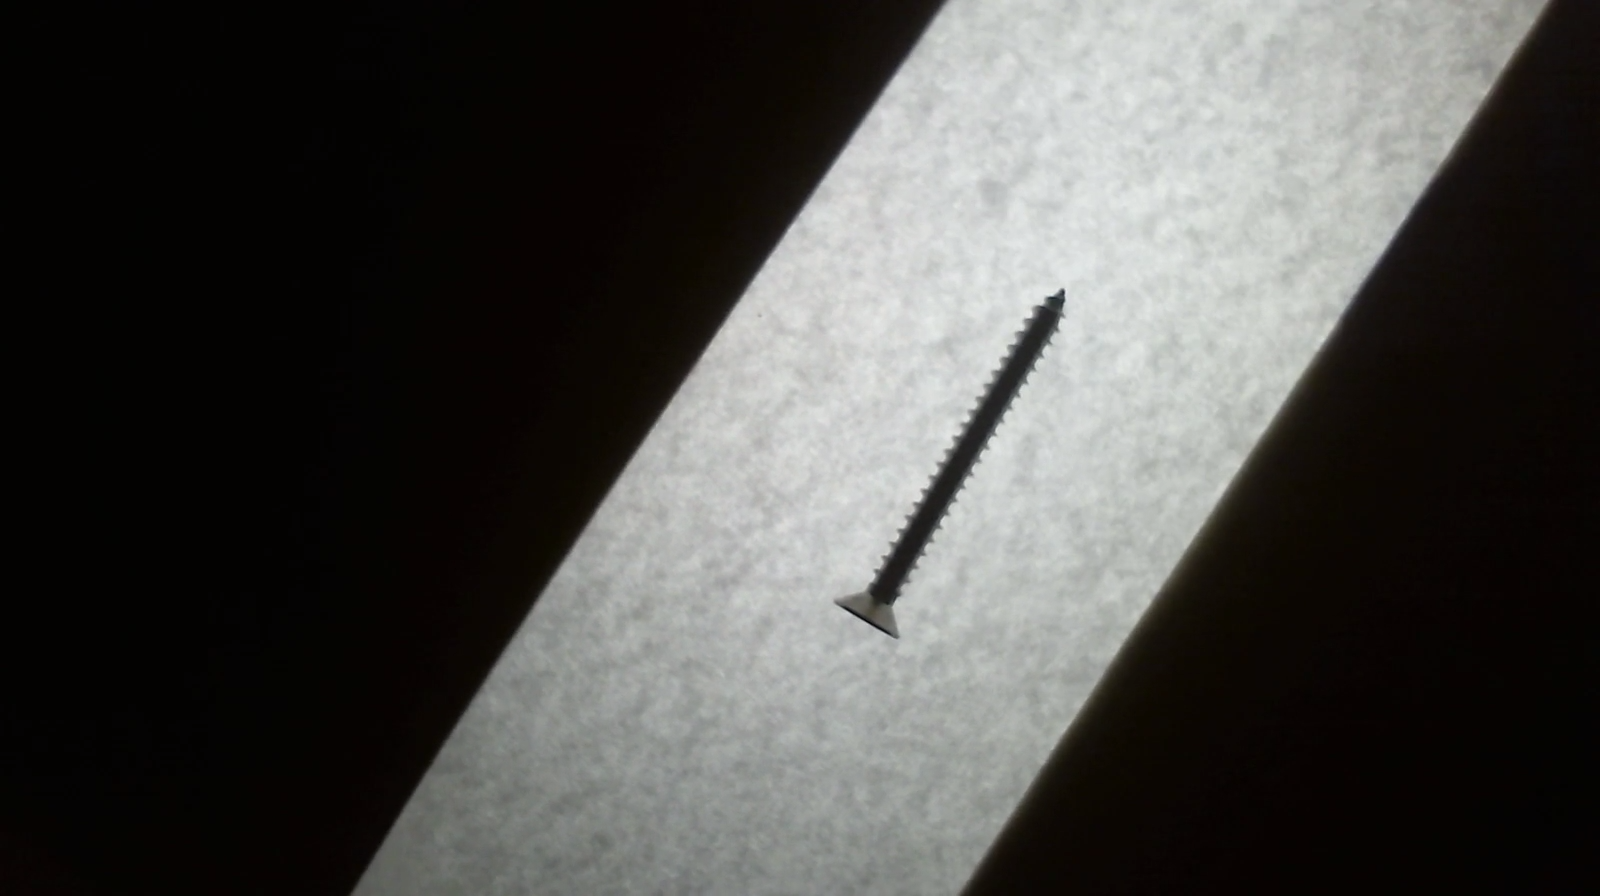S002: (816, 263, 1092, 656)
